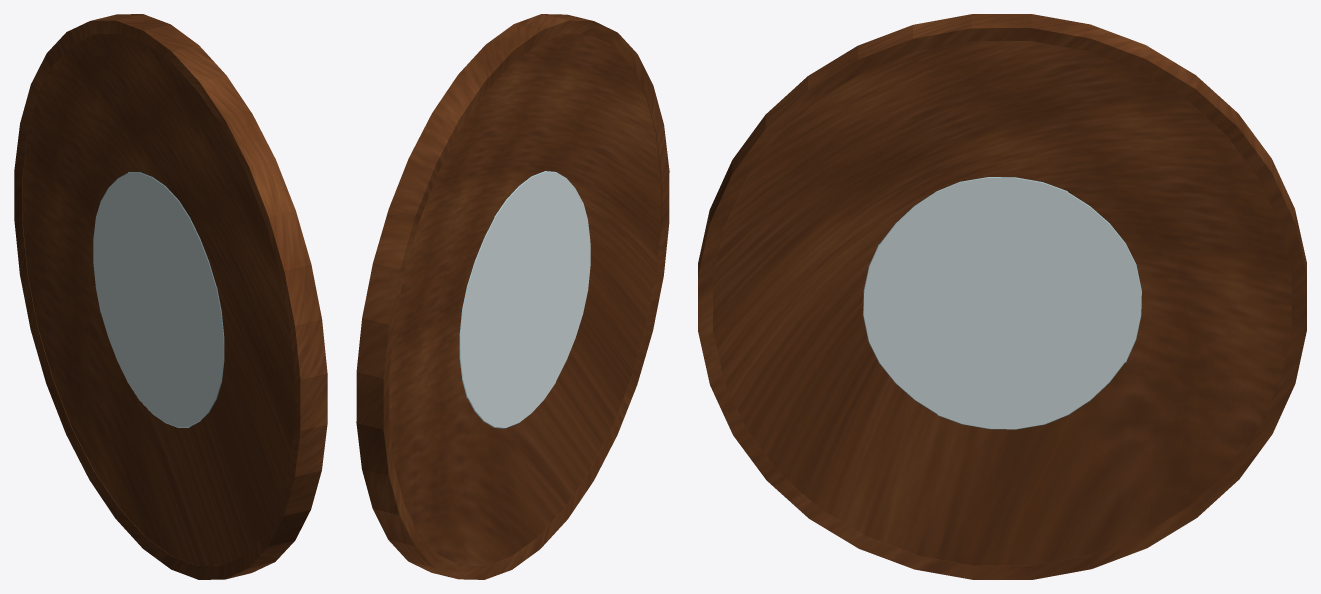
Rendered from Window03O_3x3.fbx.
3 views of the same model, side by side, from view 1: azimuth 30°, elevation 25°; view 2: azimuth 150°, elevation 25°; view 3: azimuth 270°, elevation 25° (orthographic). The views are drawn at different scales.
Parts seen in each view (by area): view 1: Circle#2, glass.020#2, glass.013#2; view 2: Circle#2, glass.020#2, glass.013#2; view 3: Circle#2, glass.013#2, glass.020#2.
Boxes of the visible parts, x1,y1,x2,y2 form: Circle#2: (22, 34, 294, 565); glass.020#2: (14, 14, 327, 579); glass.013#2: (93, 172, 224, 427); Circle#2: (389, 34, 660, 565); glass.020#2: (356, 14, 669, 579); glass.013#2: (459, 171, 590, 428); Circle#2: (712, 41, 1292, 565); glass.013#2: (863, 177, 1141, 429); glass.020#2: (698, 14, 1306, 579).
Size of the model in its own units: 0.3283 by 6 by 6.
Materials: 2 (2 with a texture image).
